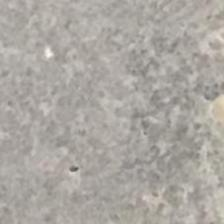Non_Crack: (9, 22, 187, 221)
